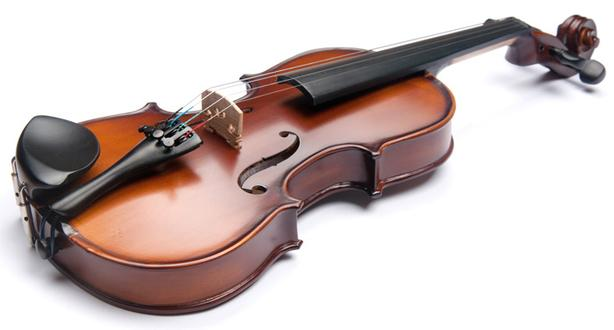Fiddle: (22, 9, 605, 314)
